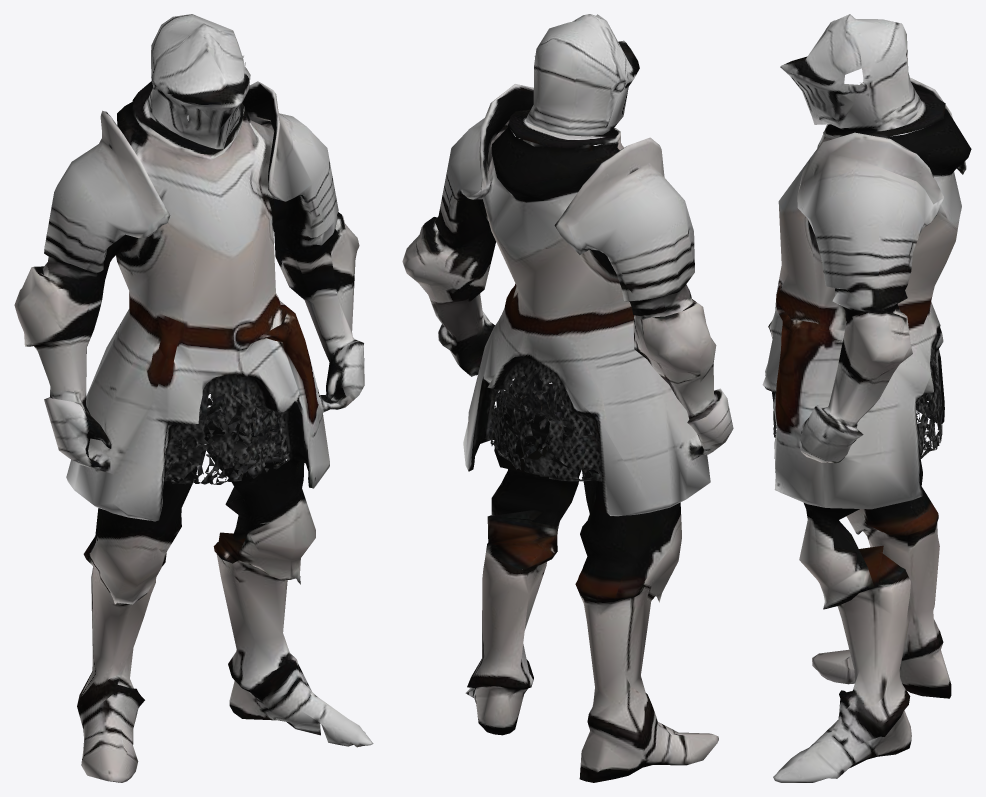
The model's file is knight.glb.
3 renders of one model, left to right at view 1: azimuth 30°, elevation 25°; view 2: azimuth 150°, elevation 25°; view 3: azimuth 270°, elevation 25°, orthographic. The views are drawn at different scales.
Bounding box in the file's own units: 0.4476 × 0.9657 × 0.2589.
1 material, 1 textured.
